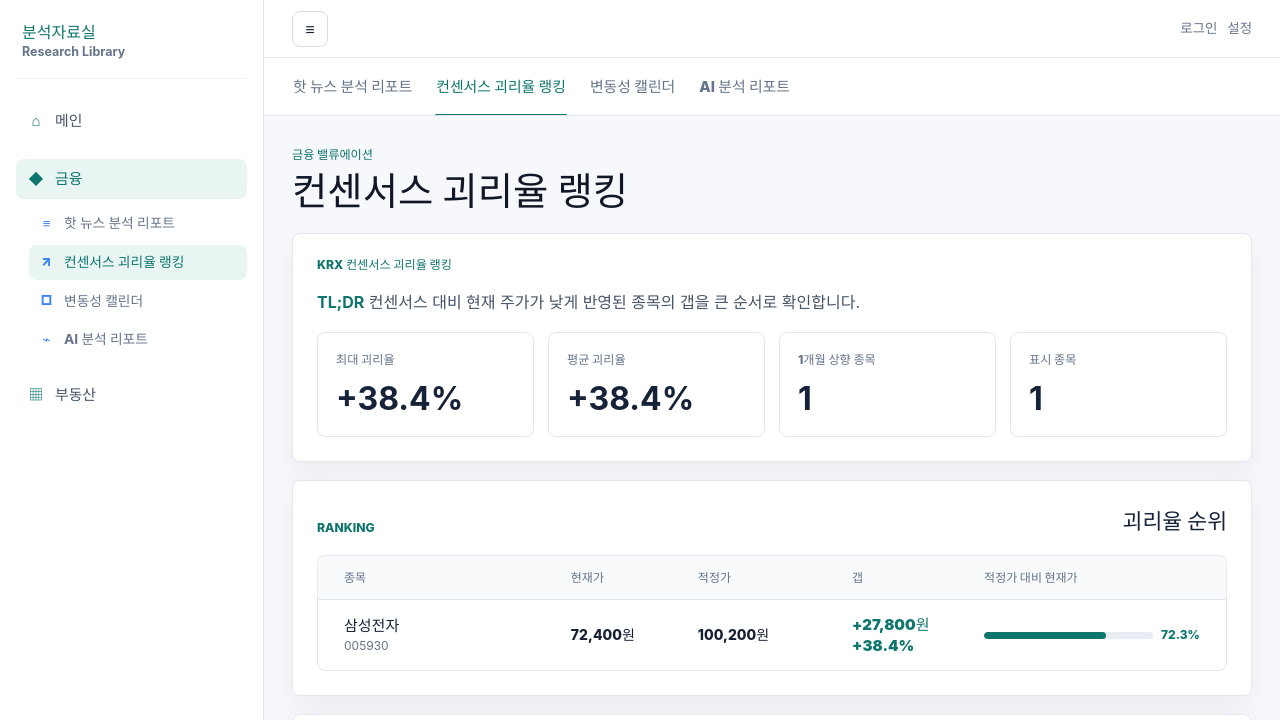
it: App routing › navigates to the volatility calendar from finance tabs
Click the tab "변동성 캘린더" at (633, 94), box [589, 73, 676, 115]
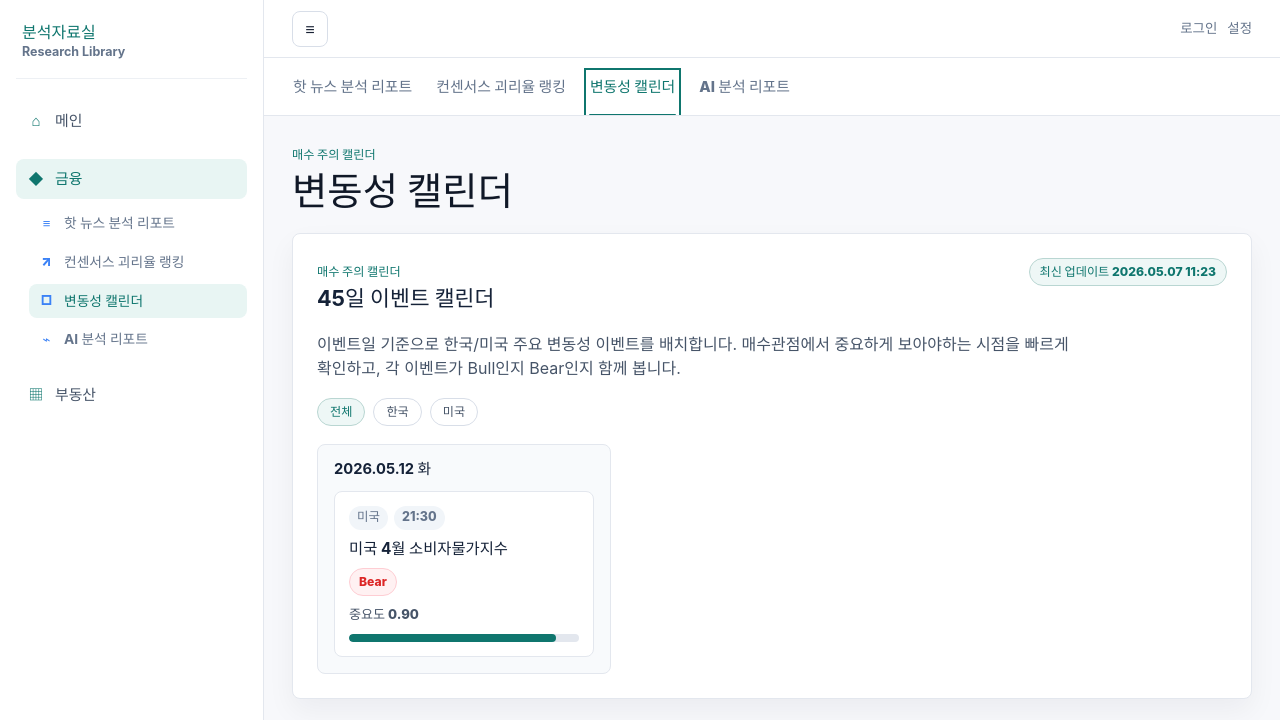
Expected: the heading "변동성 캘린더" is shown, [292, 168, 513, 214]
Expected: the heading "45일 이벤트 캘린더" is shown, [317, 282, 494, 314]
Expected: the text "미국 4월 소비자물가지수" is shown, [349, 539, 508, 558]
